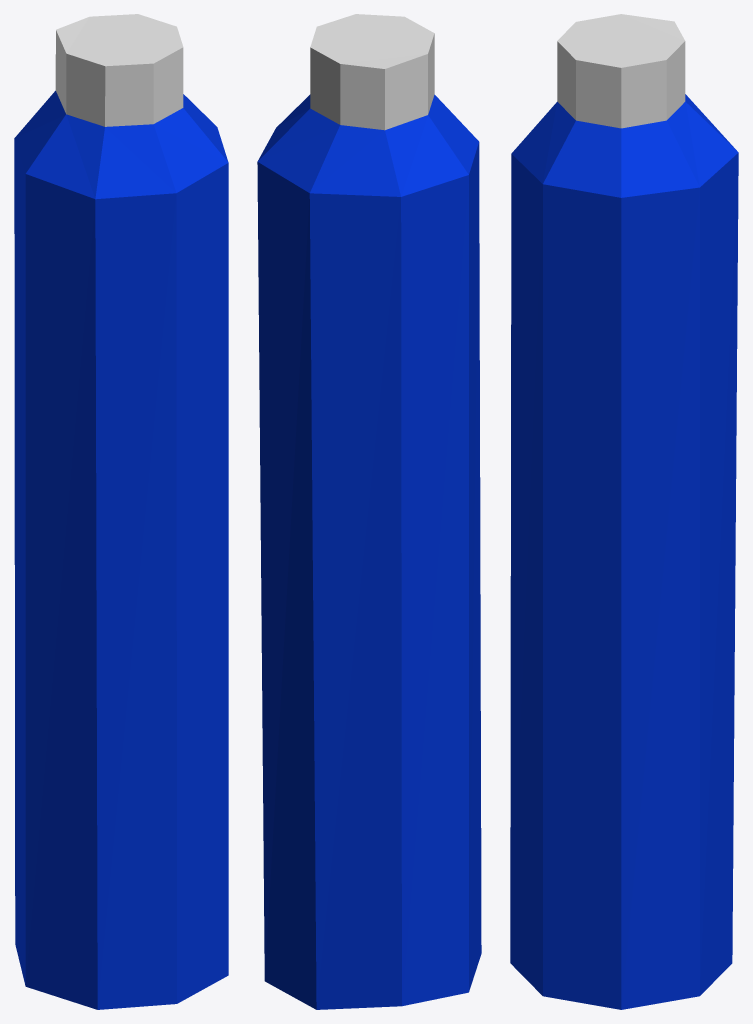
File: bonbone.fbx
The picture shows the model from 3 angles, left to right: view 1: azimuth 30°, elevation 25°; view 2: azimuth 150°, elevation 25°; view 3: azimuth 270°, elevation 25°; orthographic projection.
Visible parts, largest first — view 1: Cylinder.002; view 2: Cylinder.002; view 3: Cylinder.002.
Part boxes in pixels (x1,y1,x2,y2): Cylinder.002: (14,14,228,1009); Cylinder.002: (257,14,481,1009); Cylinder.002: (510,14,738,1009).
Bounding box in the file's own units: 23.19 × 107 × 23.94.
